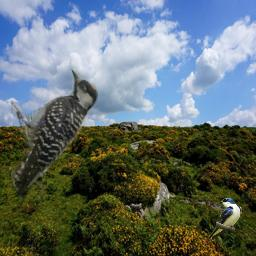Swallow: (207, 197, 242, 240)
Woodpecker: (11, 63, 98, 203)
